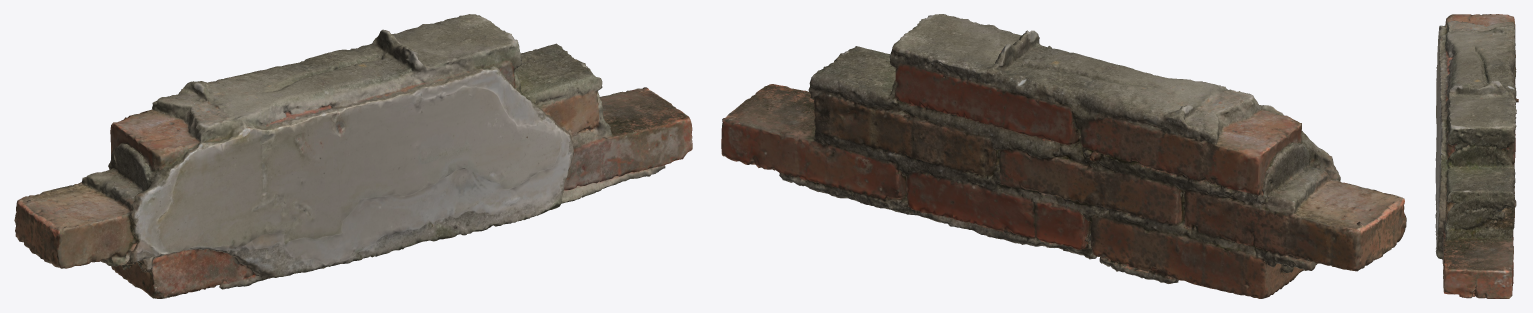
Rendered from PX_Brick_Ruins_10_LOD0.fbx.
3 views of the same model, side by side, from view 1: azimuth 30°, elevation 25°; view 2: azimuth 150°, elevation 25°; view 3: azimuth 270°, elevation 25° (orthographic). The views are drawn at different scales.
Parts seen in each view (by area): view 1: PX_Brick_Ruins_10_LOD0; view 2: PX_Brick_Ruins_10_LOD0; view 3: PX_Brick_Ruins_10_LOD0.
Part boxes in pixels (x1,y1,x2,y2): PX_Brick_Ruins_10_LOD0: [14, 14, 692, 298]; PX_Brick_Ruins_10_LOD0: [721, 14, 1406, 298]; PX_Brick_Ruins_10_LOD0: [1435, 14, 1518, 298].
Size of the model in its own units: 89.92 by 25.72 by 14.12.
